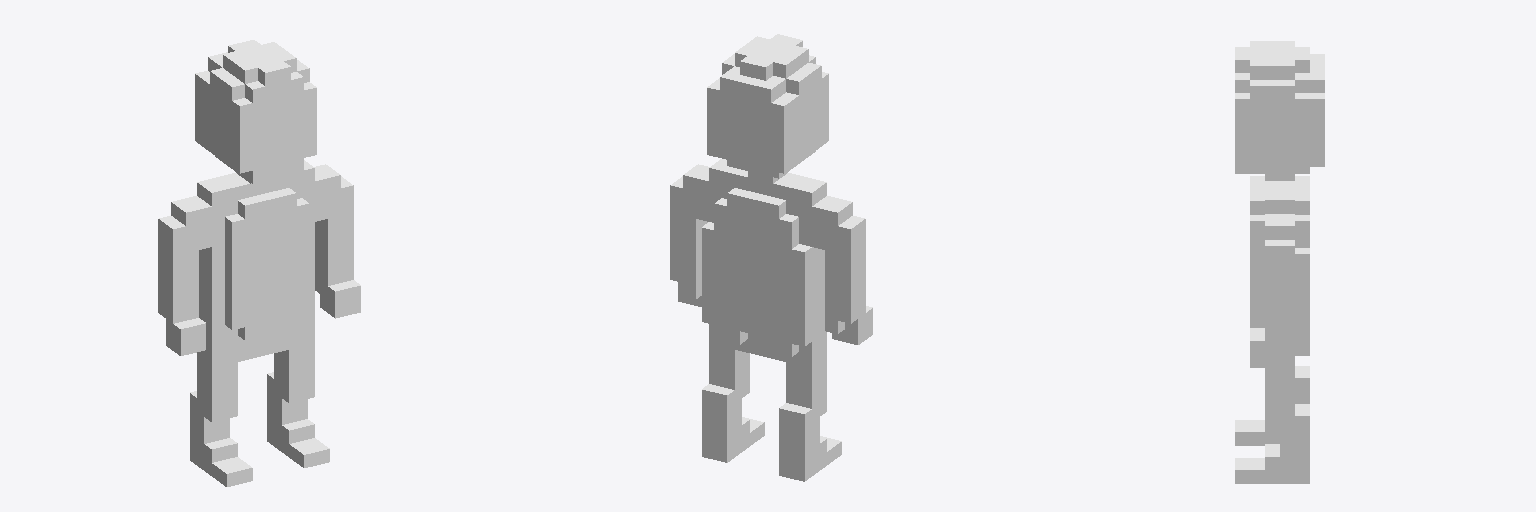
File: CustomerModels2.obj
3 renders of one model, left to right at view 1: azimuth 30°, elevation 25°; view 2: azimuth 150°, elevation 25°; view 3: azimuth 270°, elevation 25°, orthographic.
Parts seen in each view (by area): view 1: object 1; view 2: object 1; view 3: object 1.
Part boxes in pixels (x1,y1,x2,y2): object 1: (158, 40, 360, 486); object 1: (670, 34, 872, 481); object 1: (1235, 41, 1324, 483).
Size of the model in its own units: 1.4 by 3 by 0.6.